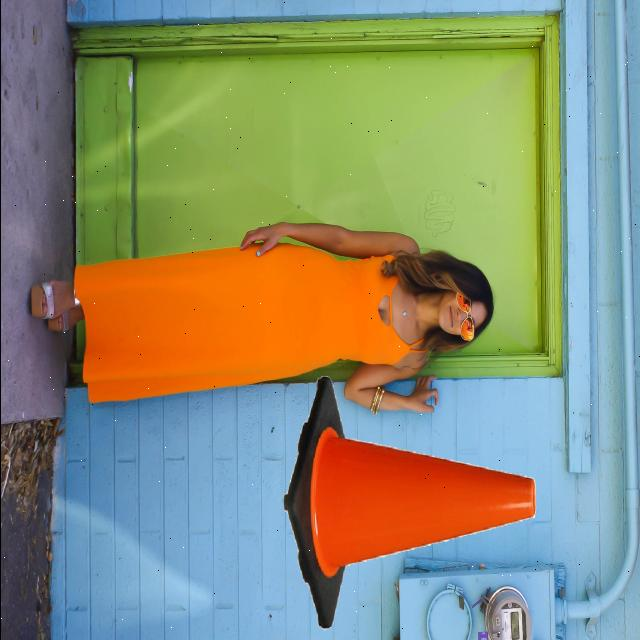traffic cone: (279, 368, 543, 636)
